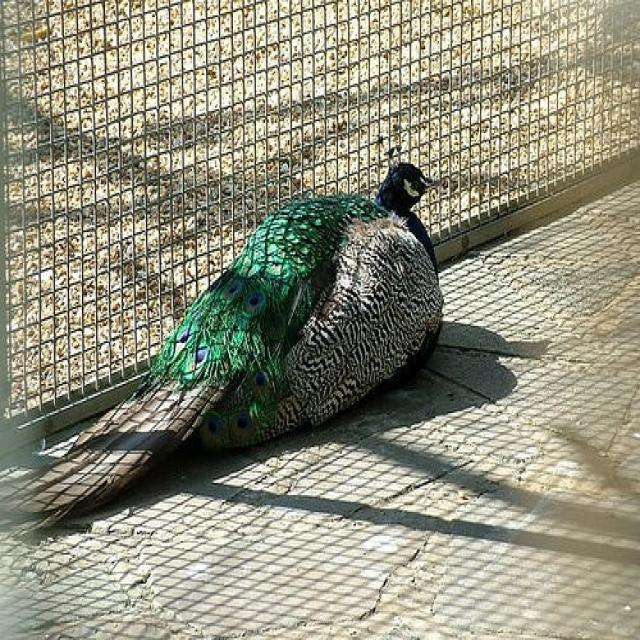bird: (5, 157, 448, 532)
